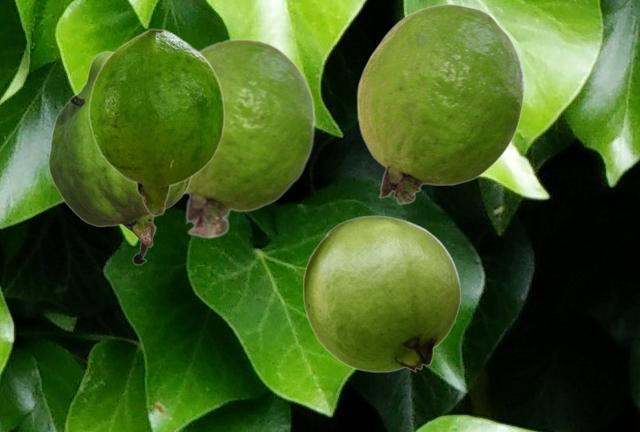guava: (356, 3, 524, 204), (47, 50, 192, 264), (184, 37, 315, 238), (88, 28, 224, 216), (302, 215, 460, 372)
